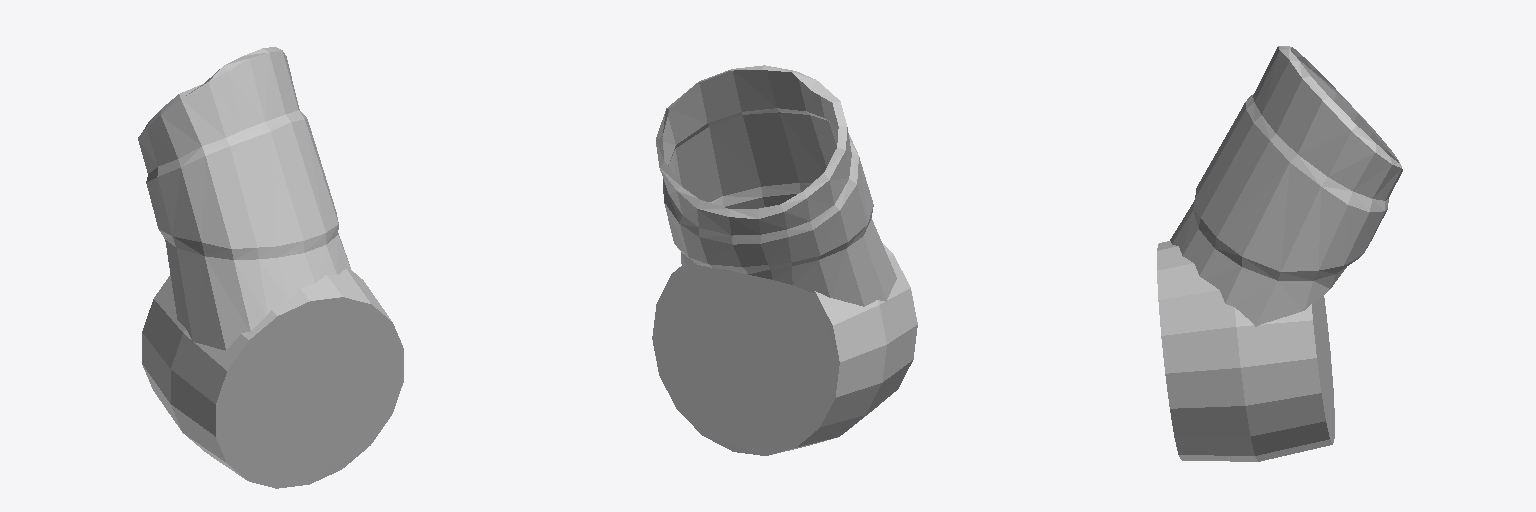
Rendered from RThumb1.obj.
3 renders of one model, left to right at view 1: azimuth 30°, elevation 25°; view 2: azimuth 150°, elevation 25°; view 3: azimuth 270°, elevation 25°, orthographic.
Parts seen in each view (by area): view 1: RThumb1_RThumb1; view 2: RThumb1_RThumb1; view 3: RThumb1_RThumb1.
Part boxes in pixels (x1,y1,x2,y2): RThumb1_RThumb1: (138, 47, 403, 488); RThumb1_RThumb1: (652, 65, 917, 455); RThumb1_RThumb1: (1157, 46, 1402, 461).
Size of the model in its own units: 0.0324 by 0.059 by 0.0338.